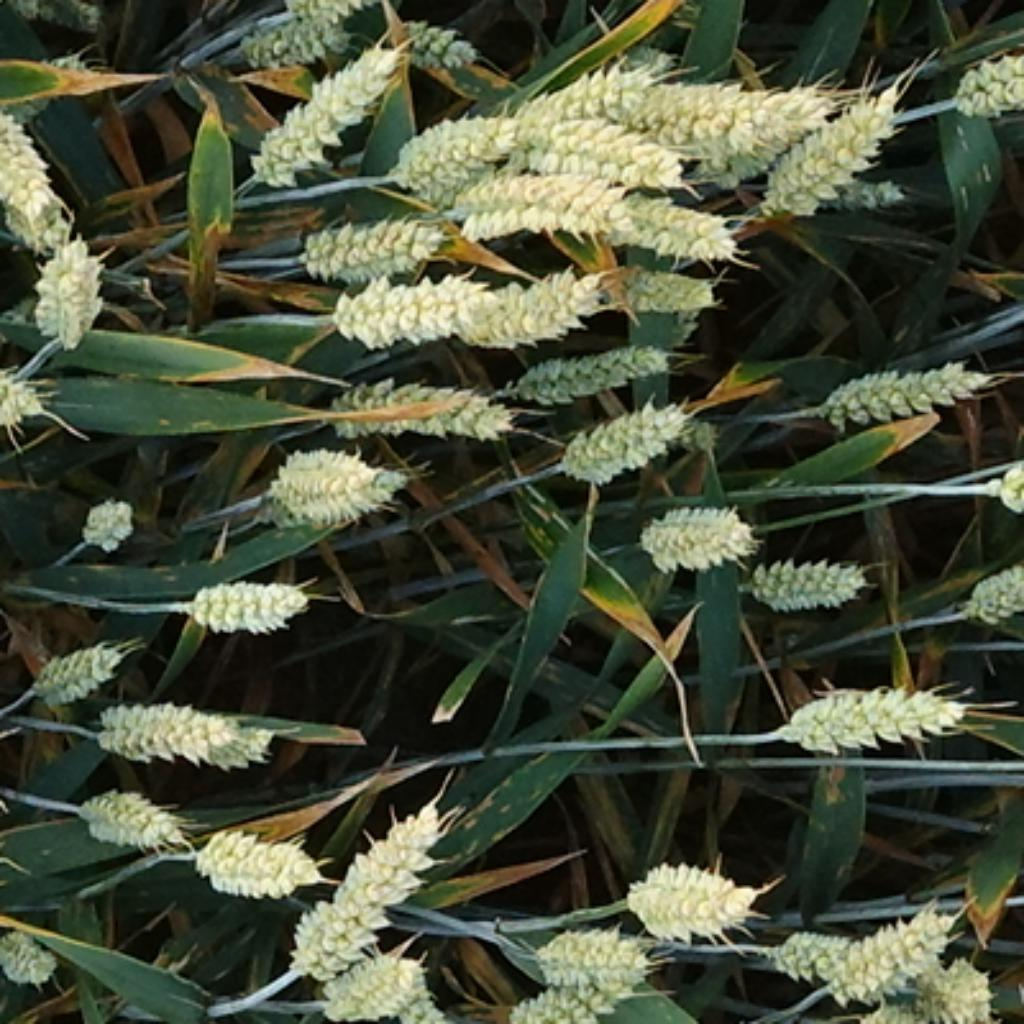0-0: (286, 801, 448, 977), (238, 35, 404, 179), (752, 74, 908, 217), (627, 58, 832, 161), (504, 51, 673, 161), (432, 156, 657, 238), (768, 660, 970, 750), (314, 363, 522, 440), (84, 680, 273, 760), (821, 348, 990, 435), (829, 901, 962, 1006), (320, 276, 501, 353), (550, 386, 704, 476), (624, 856, 768, 951), (770, 924, 962, 995), (506, 102, 683, 179), (284, 199, 448, 276), (463, 266, 606, 350), (312, 936, 448, 1024), (389, 97, 517, 189), (186, 811, 322, 893), (600, 196, 754, 268), (509, 332, 670, 399), (632, 486, 760, 568), (268, 460, 409, 532), (25, 238, 112, 350), (0, 89, 69, 230), (494, 960, 645, 1024), (174, 563, 314, 629), (737, 540, 870, 609), (527, 916, 650, 988), (71, 775, 184, 847), (271, 442, 386, 509), (25, 627, 125, 698), (591, 263, 719, 317), (230, 17, 363, 66), (911, 947, 998, 1021), (944, 43, 1021, 125), (366, 957, 453, 1024), (2, 179, 74, 253), (394, 5, 478, 66), (960, 565, 1024, 629), (0, 913, 61, 980), (74, 494, 138, 552), (0, 340, 43, 424), (668, 409, 724, 463), (279, 2, 376, 33), (849, 990, 934, 1024), (16, 1, 105, 32), (988, 465, 1024, 514), (28, 827, 35, 907)
